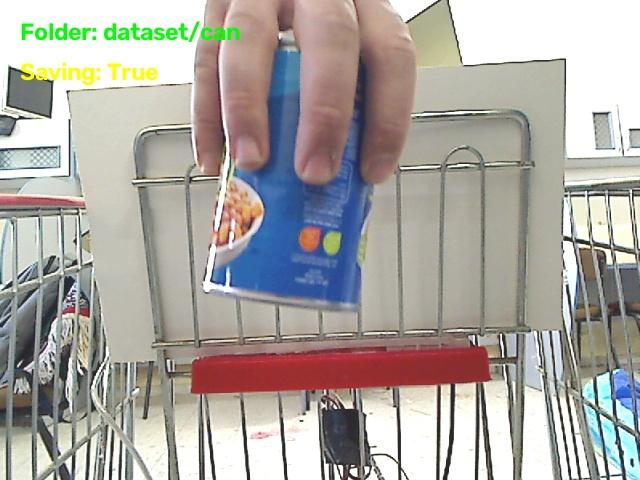can: (203, 38, 372, 310)
